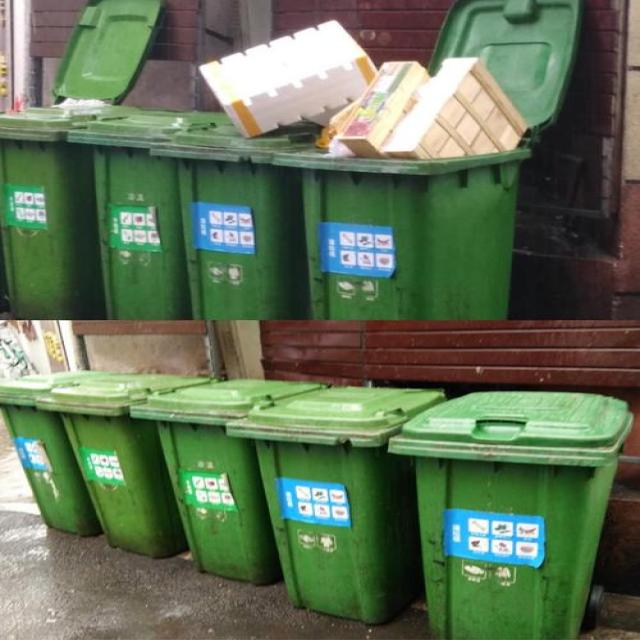garbage_bin: (386, 390, 634, 638), (225, 384, 442, 623), (128, 379, 324, 584), (67, 110, 233, 316), (36, 374, 205, 559), (0, 371, 102, 534)
overflow: (270, 58, 531, 318), (148, 17, 365, 320), (0, 97, 138, 318)
